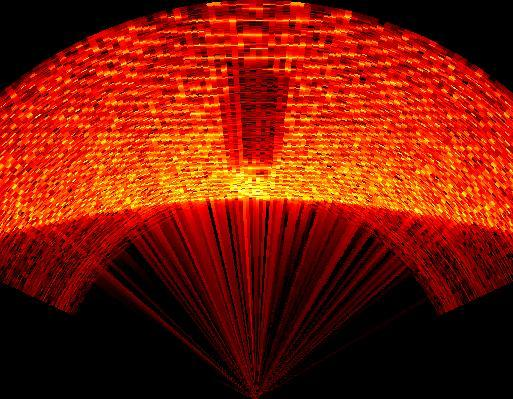box_crate: (214, 59, 294, 173)
